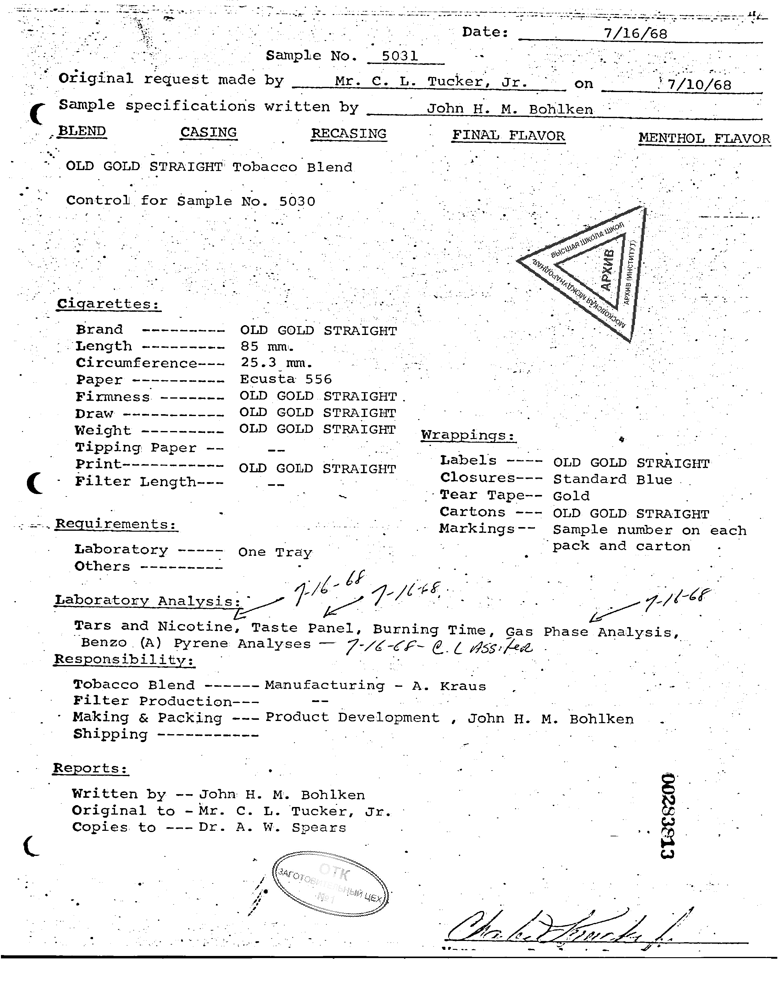oval_1: (264, 839, 397, 929)
triangle_2: (507, 188, 648, 346)
